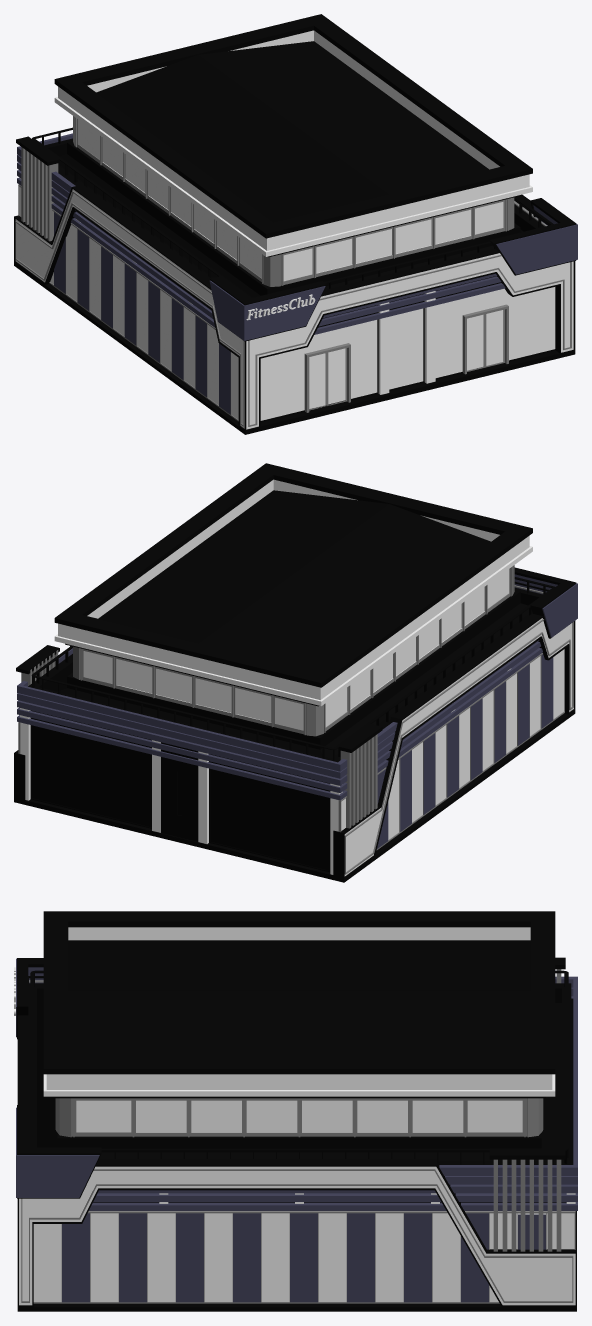
The model's file is fitness_club.glb.
3 views of the same model, one above another, from view 1: azimuth 30°, elevation 25°; view 2: azimuth 150°, elevation 25°; view 3: azimuth 270°, elevation 25° (orthographic). The views are drawn at different scales.
Parts seen in each view (by area): view 1: Fitness Club.030_29, Fitness Club.029_28, Fitness Club.038_37, Fitness Club.016_15, Fitness Club.034_33, Fitness Club.028_27, Fitness Club.024_23, Fitness Club.004_3, Fitness Club.036_35, Fitness Club.019_18, Fitness Club.017_16, Fitness Club.018_17 (+14 smaller); view 2: Fitness Club.030_29, Fitness Club.035_34, Fitness Club.029_28, Fitness Club.019_18, Fitness Club.034_33, Fitness Club.024_23, Fitness Club.028_27, Fitness Club.004_3, Fitness Club.036_35, Fitness Club.017_16, Fitness Club.025_24, Fitness Club.016_15 (+14 smaller); view 3: Fitness Club.030_29, Fitness Club.029_28, Fitness Club.036_35, Fitness Club.004_3, Fitness Club.016_15, Fitness Club.028_27, Fitness Club.034_33, Fitness Club.024_23, Fitness Club.019_18, Fitness Club.017_16, Fitness Club.025_24, Fitness Club.021_20 (+10 smaller).
Boxes of the visible parts, x1,y1,x2,y2 form: Fitness Club.030_29: (96, 41, 488, 222); Fitness Club.029_28: (54, 14, 532, 238); Fitness Club.038_37: (260, 287, 555, 420); Fitness Club.016_15: (15, 189, 573, 429); Fitness Club.034_33: (78, 120, 503, 281); Fitness Club.028_27: (58, 30, 529, 250); Fitness Club.024_23: (58, 141, 523, 297); Fitness Club.004_3: (54, 212, 230, 414); Fitness Club.036_35: (19, 187, 238, 419); Fitness Club.019_18: (17, 133, 505, 334); Fitness Club.017_16: (14, 184, 575, 431); Fitness Club.018_17: (209, 205, 577, 340); Fitness Club.030_29: (98, 490, 490, 671); Fitness Club.035_34: (32, 725, 330, 870); Fitness Club.029_28: (54, 463, 532, 687); Fitness Club.019_18: (17, 640, 542, 800); Fitness Club.034_33: (83, 569, 509, 730); Fitness Club.024_23: (51, 590, 531, 758); Fitness Club.028_27: (58, 479, 529, 699); Fitness Club.004_3: (377, 654, 553, 848); Fitness Club.036_35: (341, 649, 564, 839); Fitness Club.017_16: (14, 581, 575, 878); Fitness Club.025_24: (73, 565, 514, 736); Fitness Club.016_15: (344, 618, 573, 876); Fitness Club.030_29: (68, 940, 530, 1058); Fitness Club.029_28: (43, 911, 555, 1074); Fitness Club.036_35: (33, 1213, 574, 1301); Fitness Club.004_3: (62, 1213, 545, 1302); Fitness Club.016_15: (19, 1166, 575, 1305); Fitness Club.028_27: (46, 927, 552, 1089); Fitness Club.034_33: (76, 1100, 522, 1132); Fitness Club.024_23: (37, 1003, 561, 1161); Fitness Club.019_18: (89, 976, 577, 1210); Fitness Club.017_16: (17, 976, 576, 1307); Fitness Club.025_24: (55, 1098, 543, 1137); Fitness Club.021_20: (17, 1303, 576, 1311).
Size of the model in its own units: 15.23 by 8.05 by 18.35.
